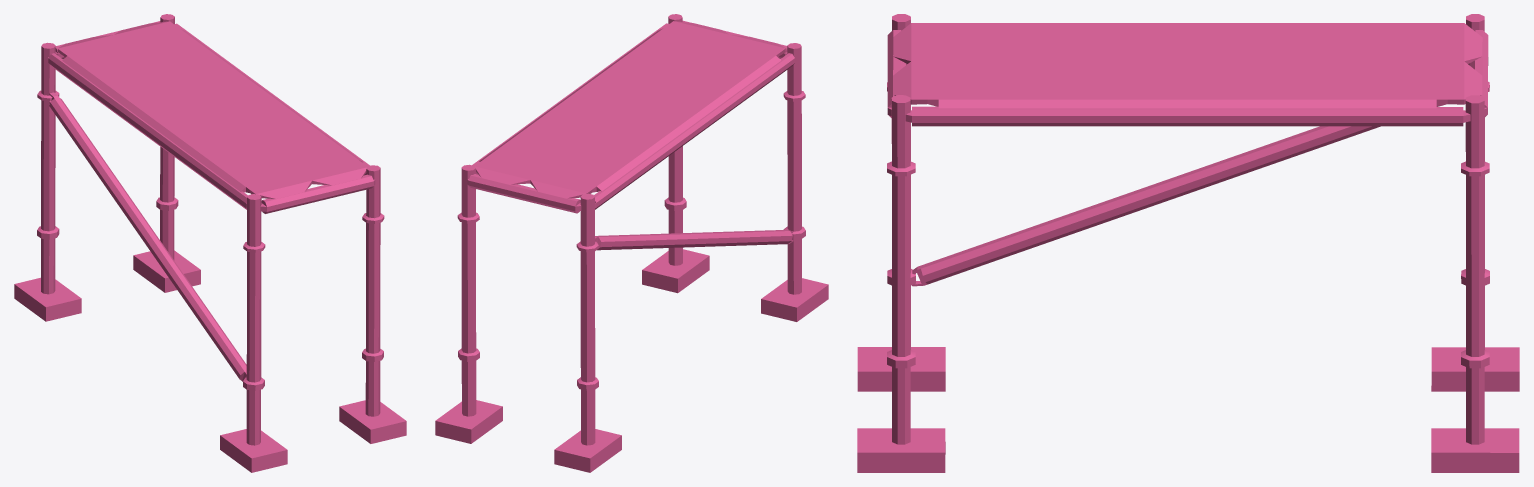
Rendered from Scaffold01_mesh.fbx.
3 views of the same model, side by side, from view 1: azimuth 30°, elevation 25°; view 2: azimuth 150°, elevation 25°; view 3: azimuth 270°, elevation 25° (orthographic). The views are drawn at different scales.
Visible parts, largest first — view 1: Scaffold01_mesh; view 2: Scaffold01_mesh; view 3: Scaffold01_mesh.
Part boxes in pixels (x1,y1,x2,y2): Scaffold01_mesh: [14, 14, 406, 472]; Scaffold01_mesh: [435, 14, 828, 472]; Scaffold01_mesh: [857, 14, 1519, 472].
Size of the model in its own units: 163 by 262 by 433.
